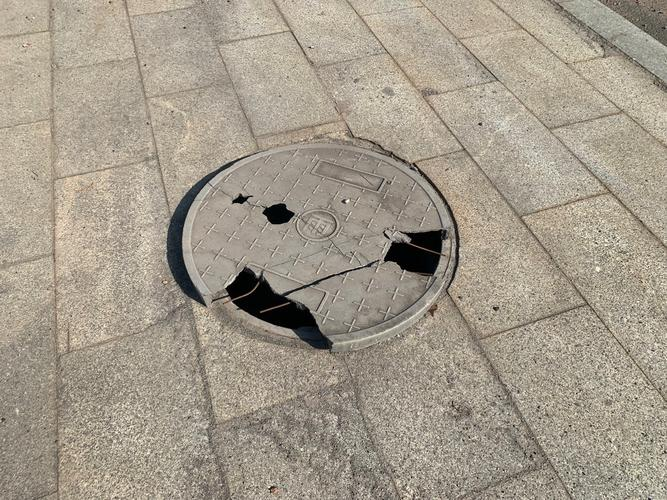broke: (157, 122, 471, 357)
